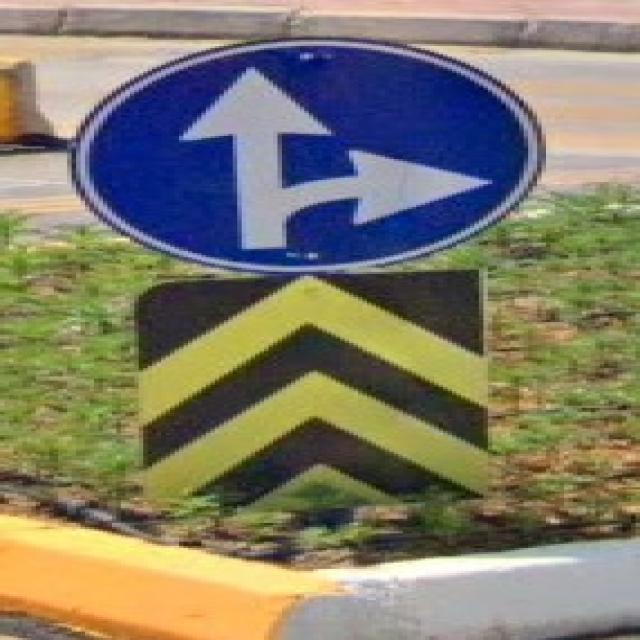Straight or Right: (73, 42, 534, 270)
